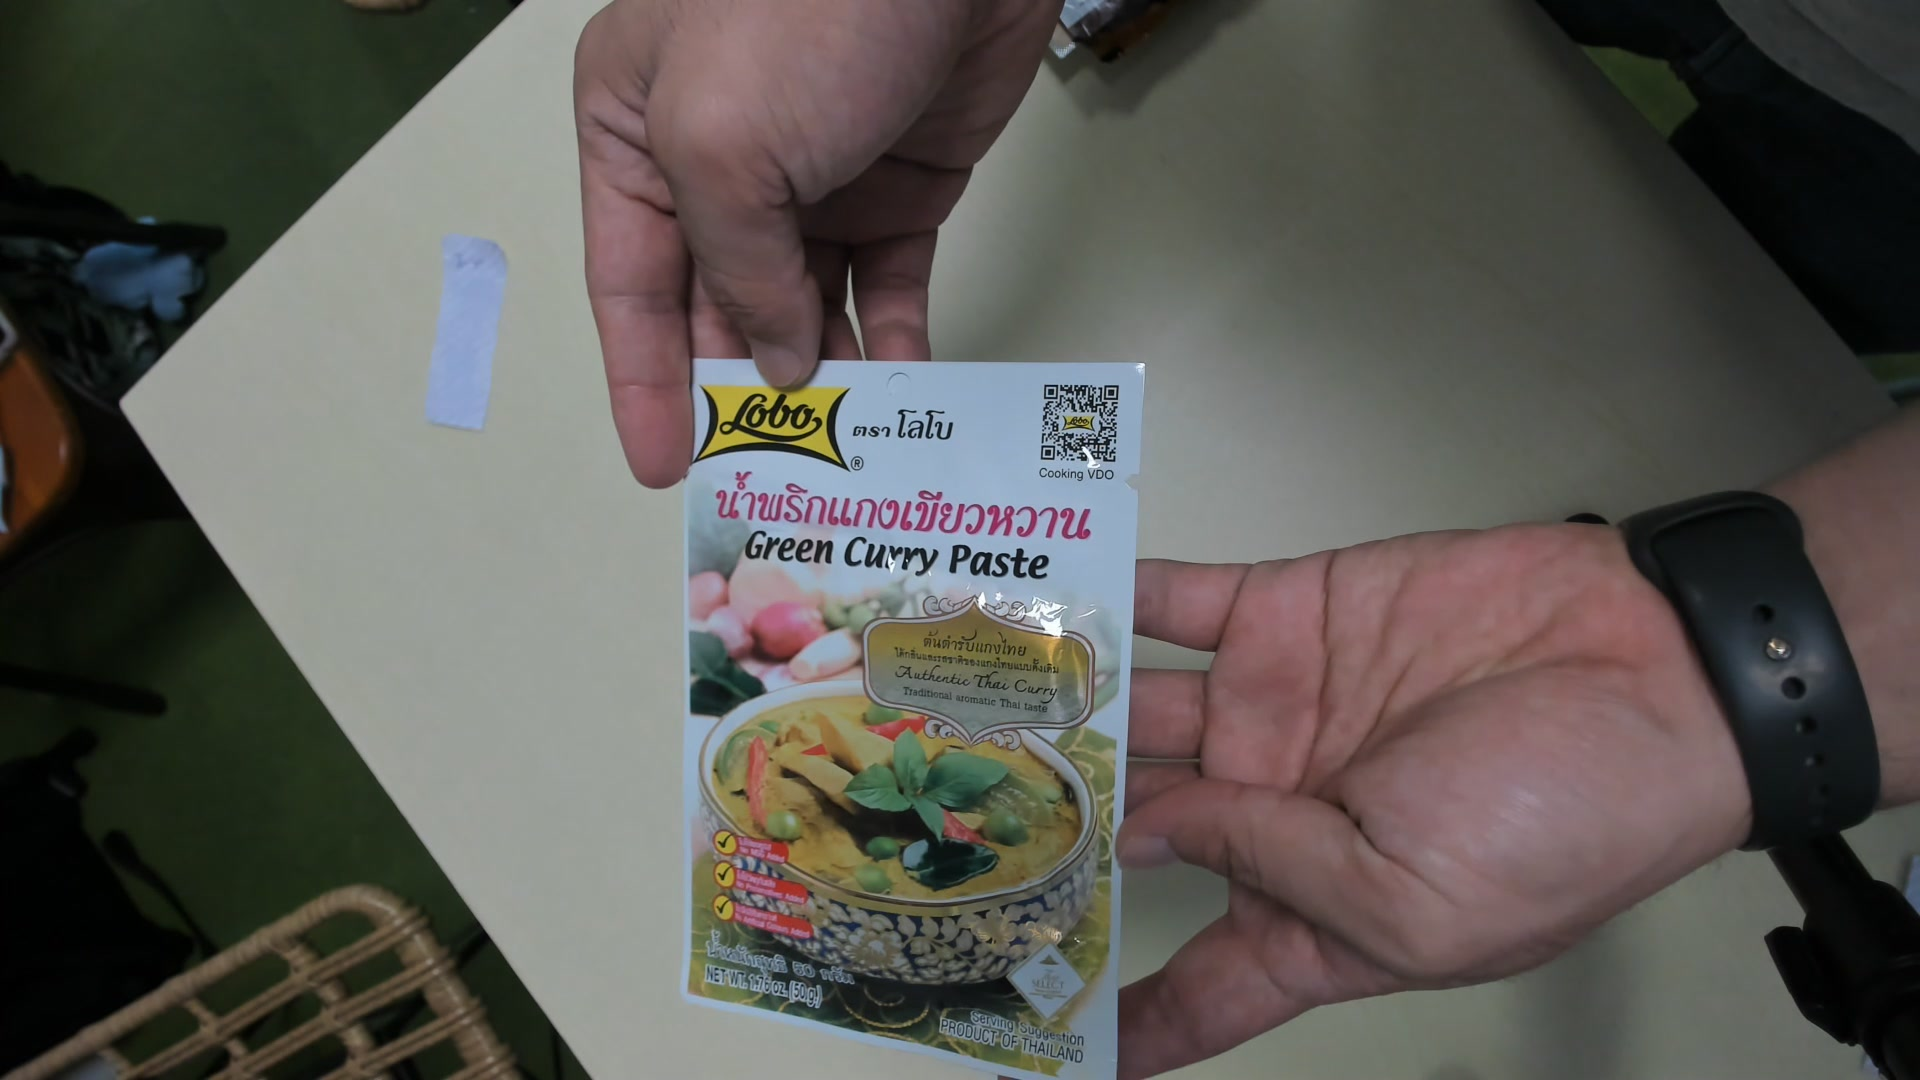OtherSauceDressing_0-99g_Halal_NonHealthy: (684, 353, 1139, 1080)
